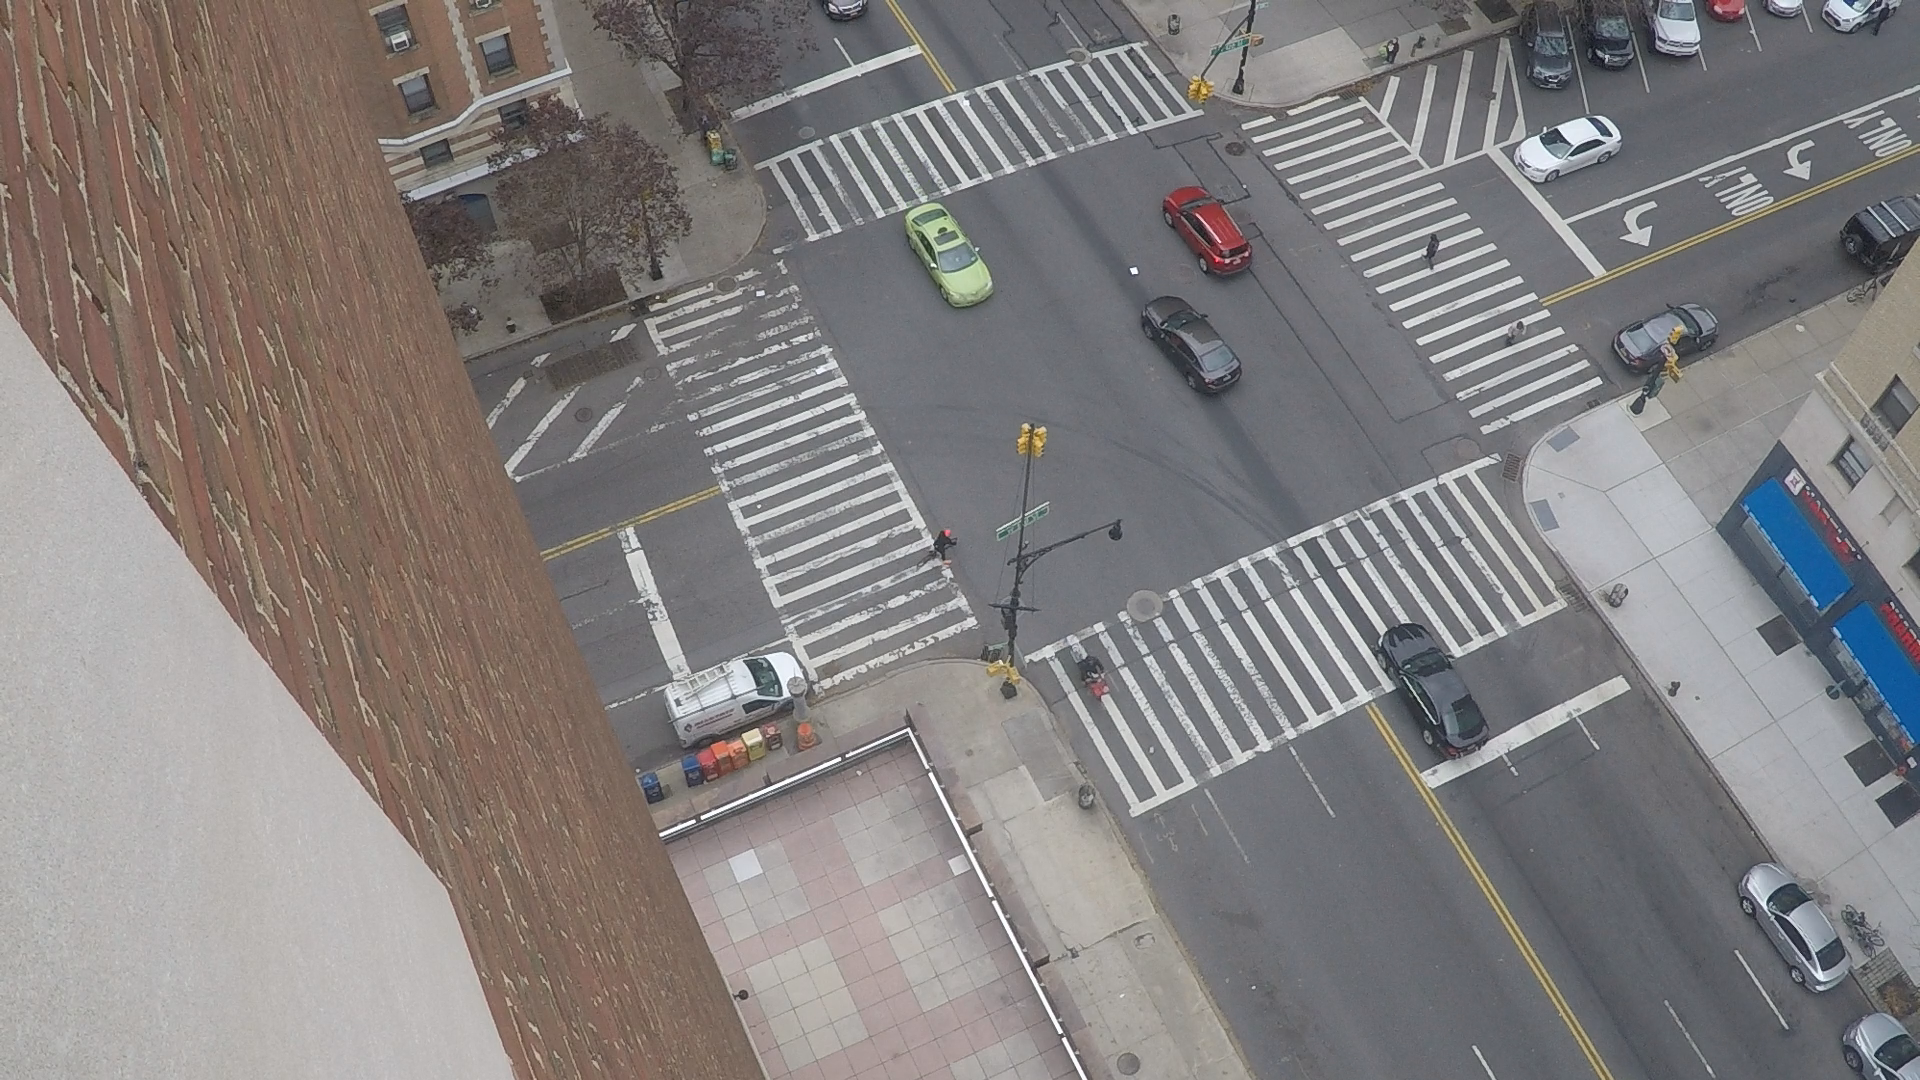Car: (1635, 0, 1636, 18), (818, 0, 822, 4), (1760, 0, 1762, 8)
